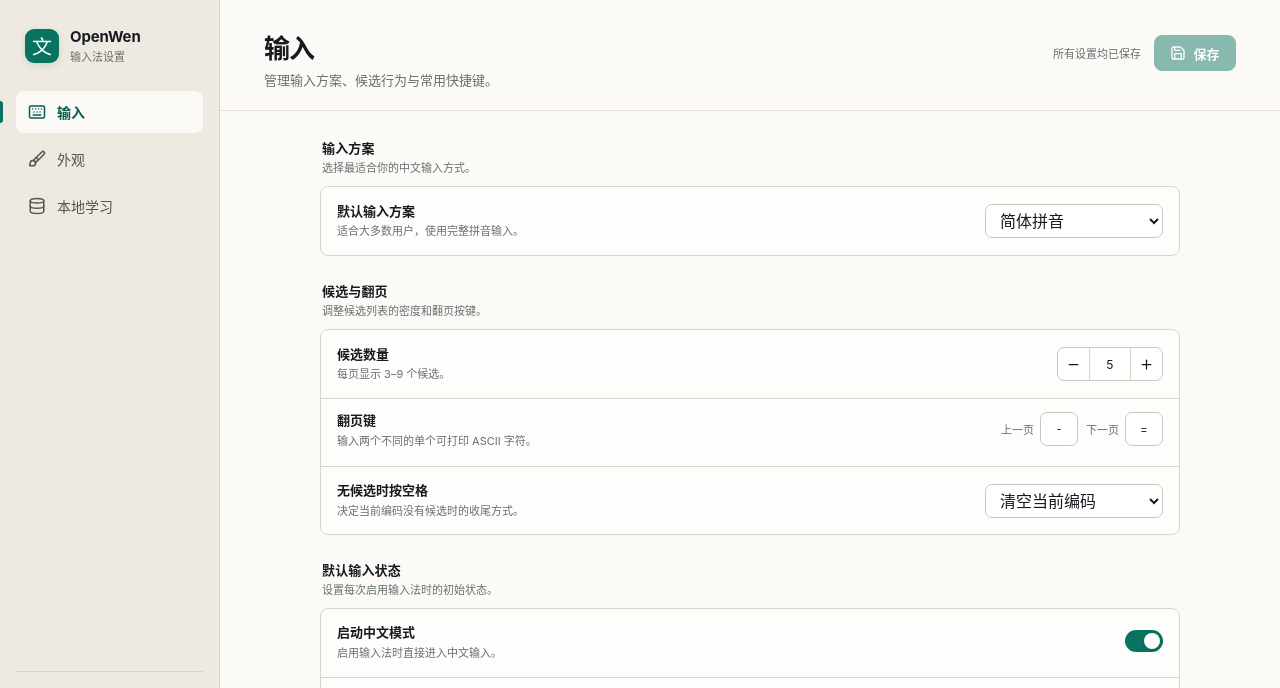
Test: OpenWen 三页设置中心 › 确认清除不会保存普通设置，也不会改变学习开关，结果使用固定文案
Click the button "本地学习": (110, 206) [16,185,203,227]
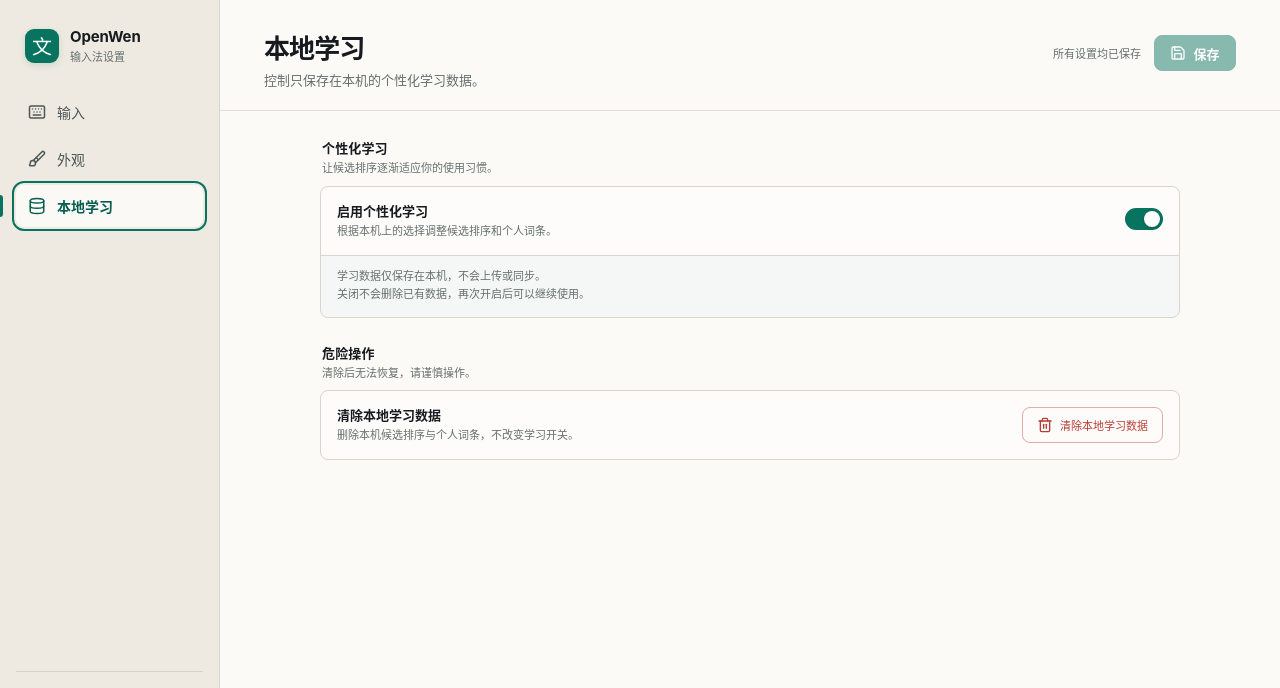
Expected: the switch named "个性化学习" is checked, [1125,208,1163,230]
Click the button "清除本地学习数据": (1092, 426) [1022,408,1163,444]
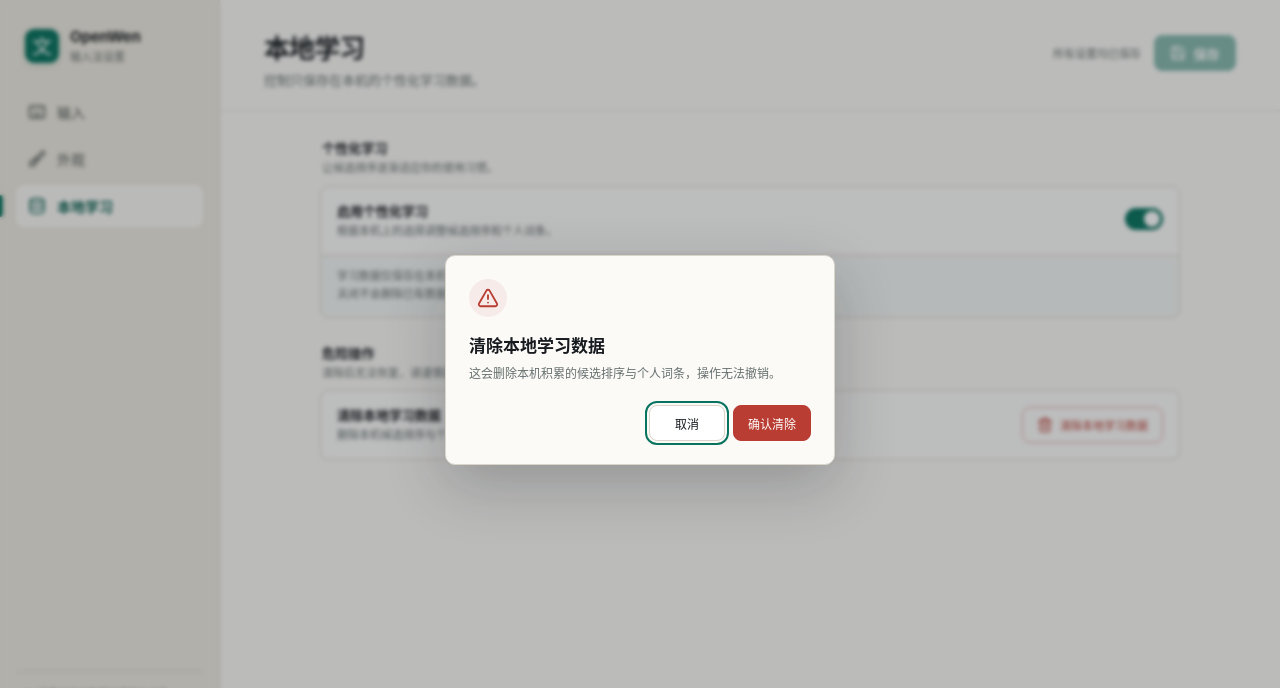
Click the button "确认清除": (772, 423) [733,405,811,441]
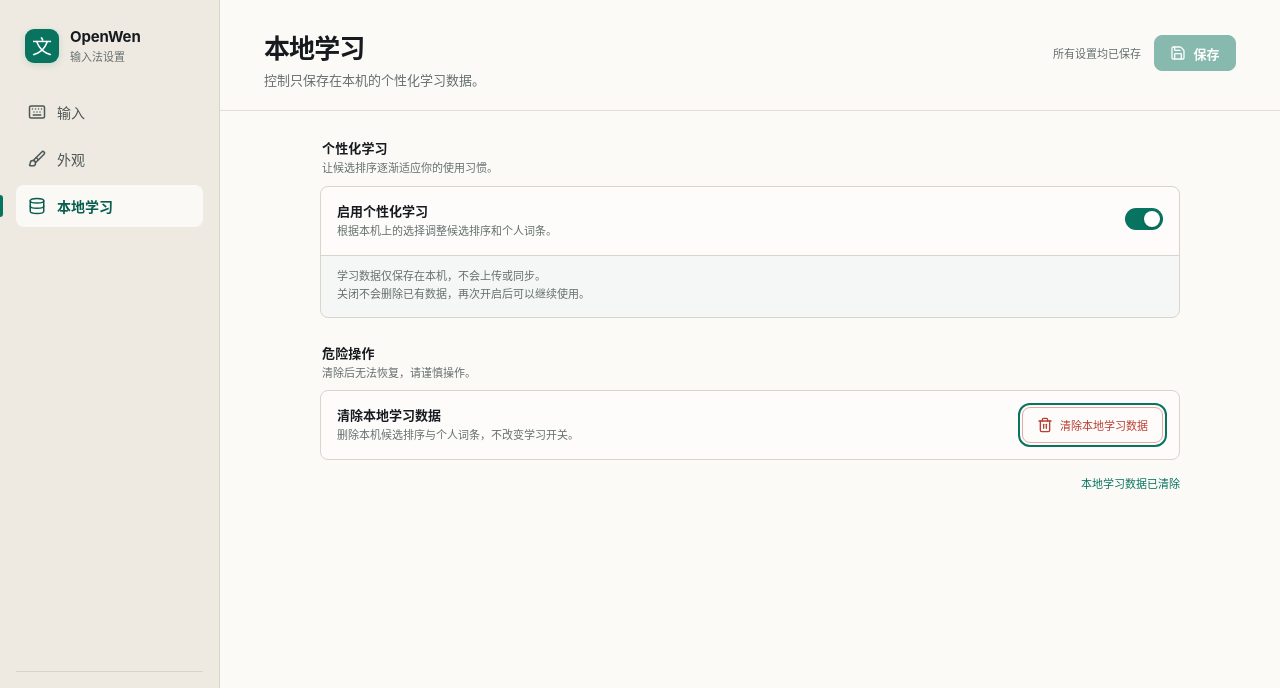
Expected: the switch named "个性化学习" is checked, [1125,208,1163,230]
Now the text "本地学习数据已清除" is shown, box [1081,478,1180,492]
